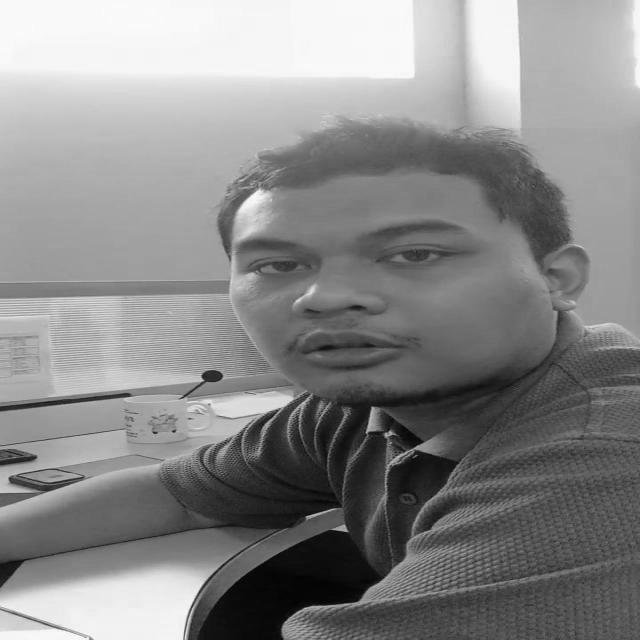real: (225, 184, 550, 404)
